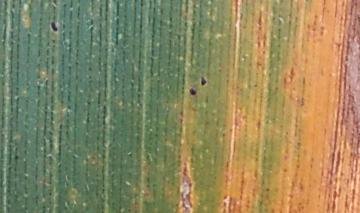tarspot: (48, 20, 60, 34), (187, 86, 196, 97), (199, 75, 207, 87), (49, 1, 60, 8), (13, 153, 19, 161)
